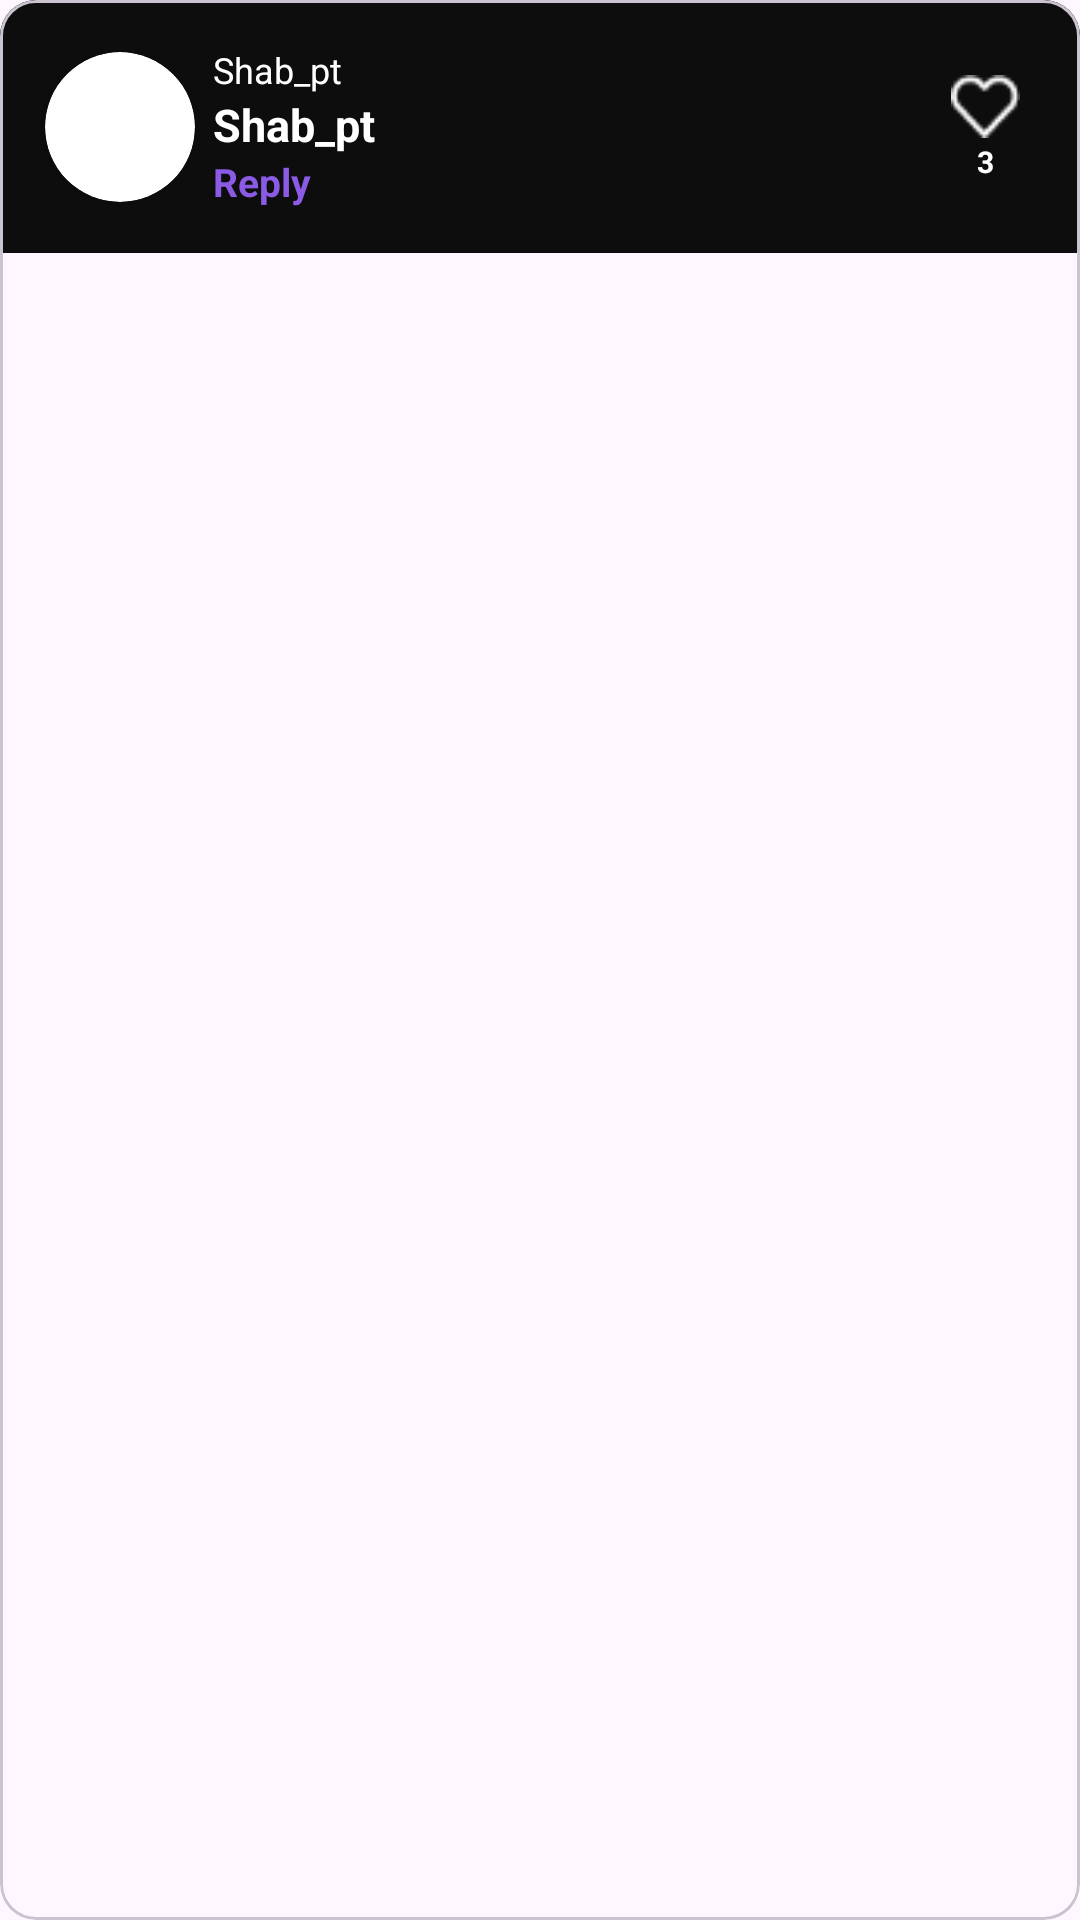

Screen size 1080px x 1920px. Icon name, then its box in pixels as [x1=x1, y1=y1, x2=x2, y2=y2]:
like: [x1=951, y1=75, x2=1020, y2=138]
